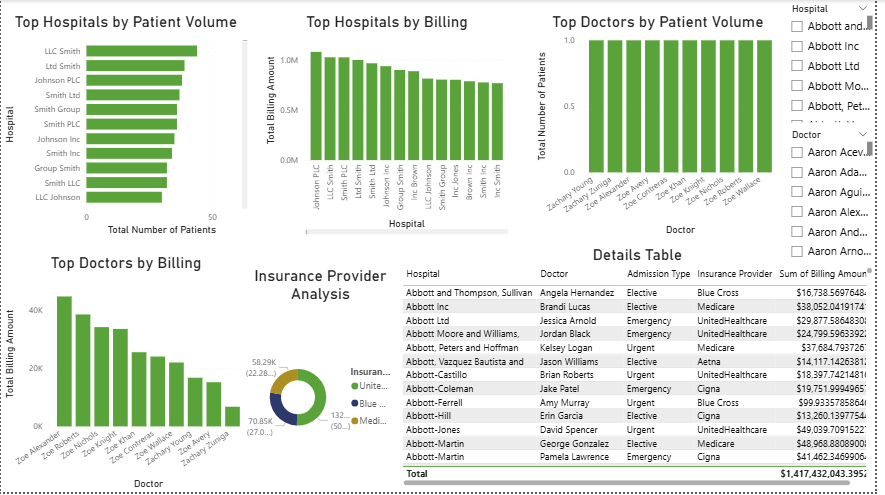

The page's visual inventory and layout, read from the dashboard file:
{"tool":"powerbi","page":{"name":"Hospital and Provider Performance","canvas":[1280,720],"ordinal":3},"visuals":[{"type":"barChart","title":"Top Hospitals by Patient Volume","fields":{"Y":["healthcare_dataset.Total Number of Patients"],"Category":["healthcare_dataset.Hospital"]},"box":[0,19,365.9,329.3],"z":0},{"type":"columnChart","title":"Top Hospitals by Billing","fields":{"Category":["healthcare_dataset.Hospital"],"Y":["healthcare_dataset.Total Billing Amount"]},"box":[382,19,365.9,329.3],"z":1000},{"type":"columnChart","title":"Top Doctors by Patient Volume","fields":{"Category":["healthcare_dataset.Doctor"],"Y":["healthcare_dataset.Total Number of Patients"]},"box":[778.5,19,365.9,329.3],"z":2000},{"type":"columnChart","title":"Top Doctors by Billing","fields":{"Category":["healthcare_dataset.Doctor"],"Y":["healthcare_dataset.Total Billing Amount"]},"box":[0,371.7,365.9,348.3],"z":3000},{"type":"donutChart","title":"Insurance Provider Analysis","fields":{"Category":["healthcare_dataset.Insurance Provider"],"Y":["healthcare_dataset.Total Billing Amount"]},"box":[352.7,390.7,229.8,329.3],"z":4000},{"type":"tableEx","title":"Details Table","fields":{"Values":["healthcare_dataset.Hospital","healthcare_dataset.Doctor","healthcare_dataset.Admission Type","healthcare_dataset.Insurance Provider","Sum(healthcare_dataset.Billing Amount)"]},"box":[582.4,360,698,355.6],"z":5000},{"type":"slicer","fields":{"Values":["healthcare_dataset.Hospital"]},"box":[1144.4,0,136.1,184.4],"z":6000},{"type":"slicer","fields":{"Values":["healthcare_dataset.Doctor"]},"box":[1144.4,184.4,136.1,206.3],"z":7000}]}

Visuals, with their boxes in screenshot pixels (x1, y1, x2, y2), scaled from the page's 1280x720 canvas onto the 885x495 screenshot:
"Top Hospitals by Patient Volume" barChart: crop(0, 13, 253, 239)
"Top Hospitals by Billing" columnChart: crop(264, 13, 517, 239)
"Top Doctors by Patient Volume" columnChart: crop(538, 13, 791, 239)
"Top Doctors by Billing" columnChart: crop(0, 256, 253, 494)
"Insurance Provider Analysis" donutChart: crop(244, 269, 403, 494)
"Details Table" tableEx: crop(403, 248, 884, 492)
slicer - healthcare_dataset.Hospital: crop(791, 0, 884, 127)
slicer - healthcare_dataset.Doctor: crop(791, 127, 884, 269)
